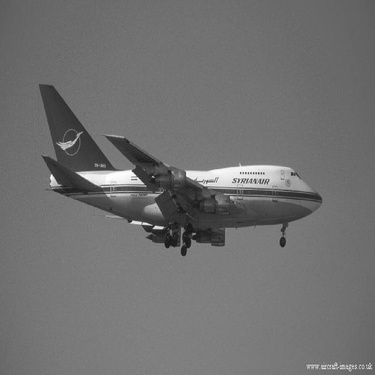airplane: (15, 62, 335, 271)
